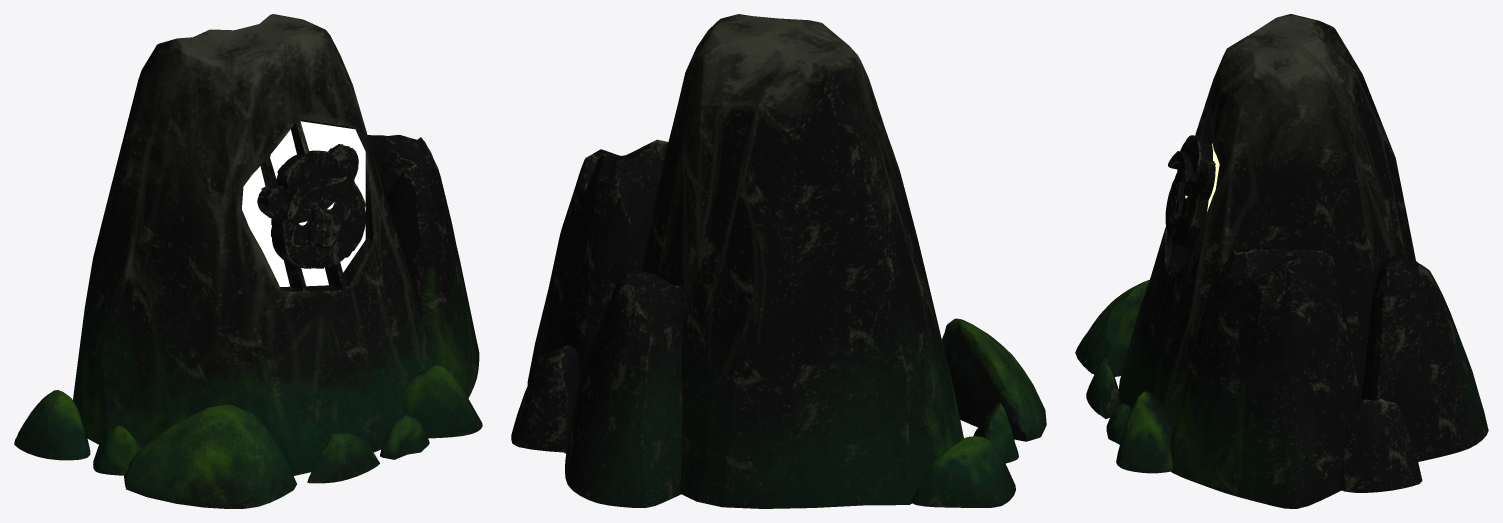
Rendered from STONE_UNITY.fbx.
The picture shows the model from 3 angles, left to right: view 1: azimuth 30°, elevation 25°; view 2: azimuth 150°, elevation 25°; view 3: azimuth 270°, elevation 25°; orthographic projection. The views are drawn at different scales.
Visible parts, largest first — view 1: Plane.022, Plane.002, Plane.003; view 2: Plane.022; view 3: Plane.022, Plane.003.
Part boxes in pixels (bbox=[...]): Plane.022: bbox=[14, 14, 482, 508]; Plane.002: bbox=[242, 121, 365, 286]; Plane.003: bbox=[272, 151, 361, 263]; Plane.022: bbox=[511, 14, 1046, 508]; Plane.022: bbox=[1075, 14, 1488, 508]; Plane.003: bbox=[1166, 146, 1205, 241].
Size of the model in its own units: 113 by 90.8 by 93.79.
2 materials, 1 textured.
